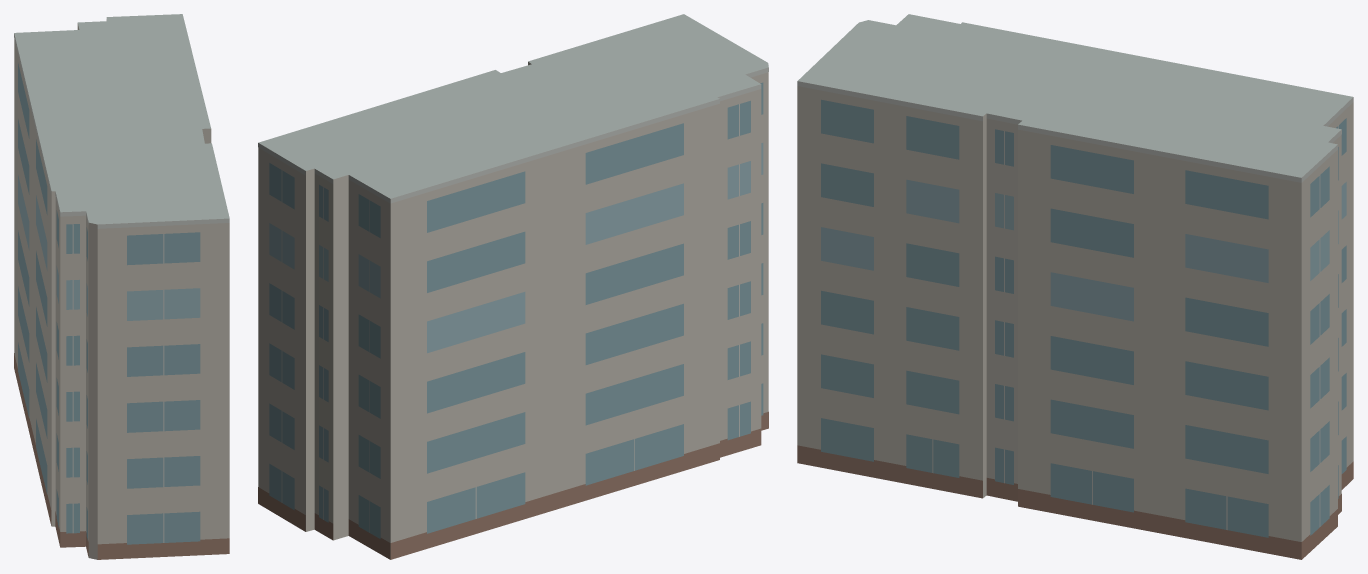
File: survey-upis-32670497.glb
The picture shows the model from 3 angles, left to right: view 1: azimuth 30°, elevation 25°; view 2: azimuth 150°, elevation 25°; view 3: azimuth 270°, elevation 25°; orthographic projection. The views are drawn at different scales.
Parts seen in each view (by area): view 1: survey-upis-32670497.tmp; view 2: survey-upis-32670497.tmp; view 3: survey-upis-32670497.tmp.
Boxes of the visible parts, x1,y1,x2,y2 form: survey-upis-32670497.tmp: (14,14,229,559); survey-upis-32670497.tmp: (258,14,768,559); survey-upis-32670497.tmp: (797,14,1353,559).
Bounding box in the file's own units: 17.12 × 18.6 × 24.55.
